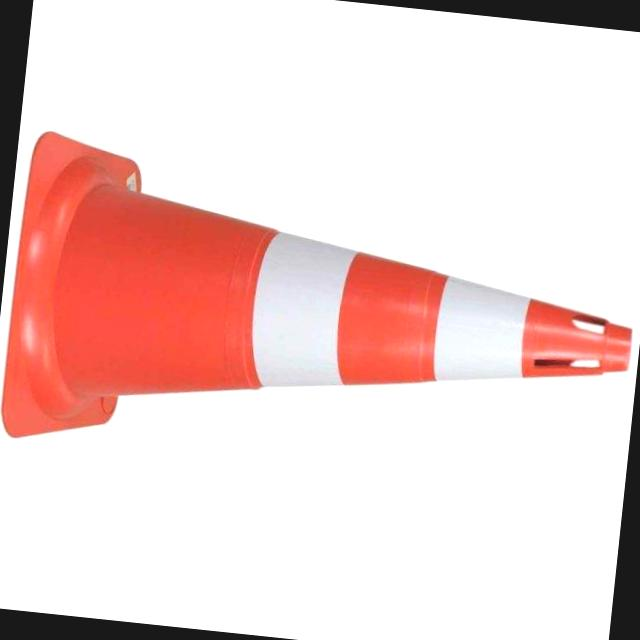cone: (1, 144, 640, 491)
